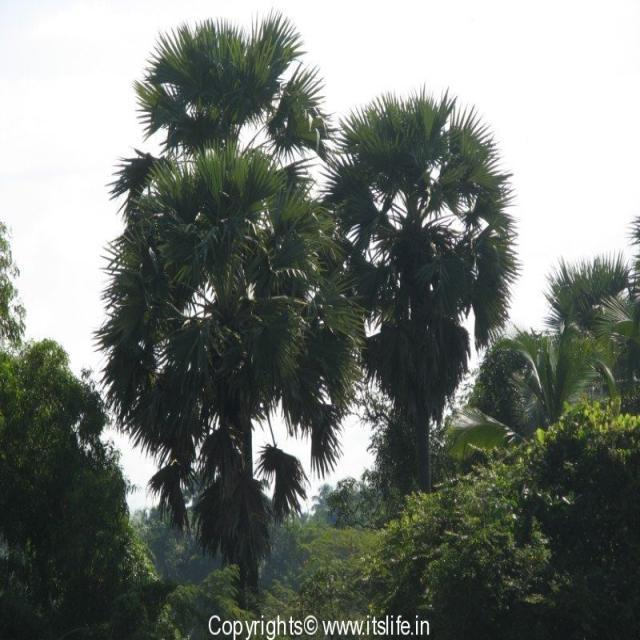Plam-Tree: (77, 34, 512, 534), (140, 110, 386, 432)
